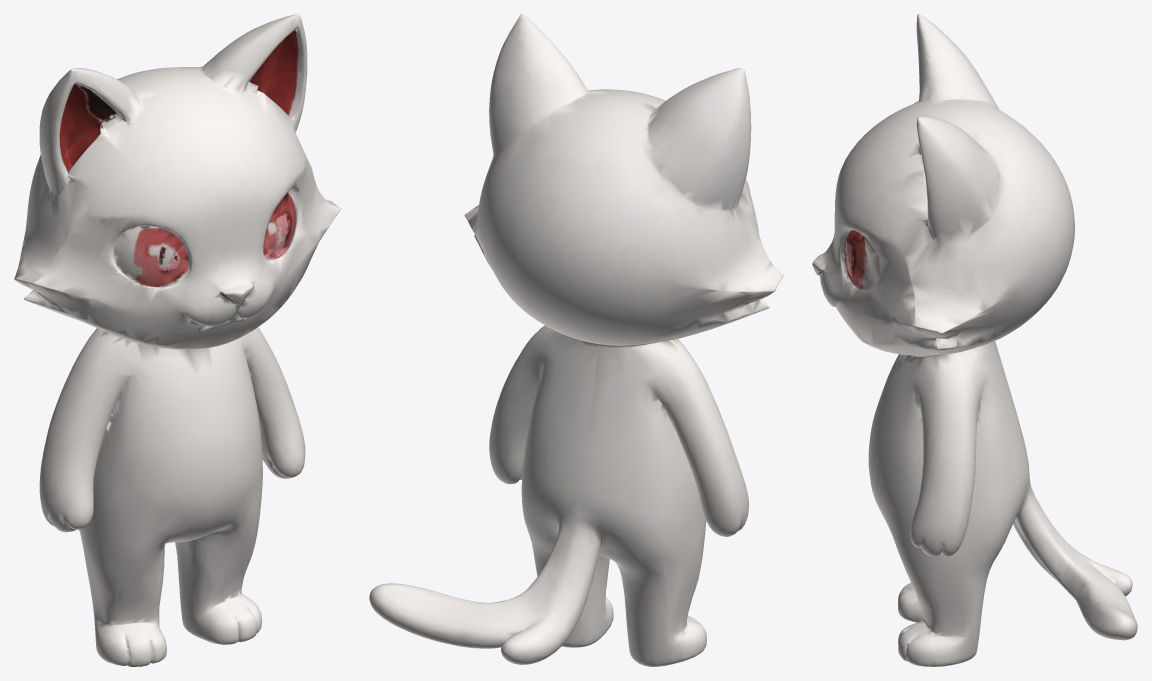
The model's file is mascot-multiview.glb.
3 views of the same model, side by side, from view 1: azimuth 30°, elevation 25°; view 2: azimuth 150°, elevation 25°; view 3: azimuth 270°, elevation 25° (orthographic). The views are drawn at different scales.
Size of the model in its own units: 0.5445 by 1 by 0.5155.
1 material, 1 textured.
